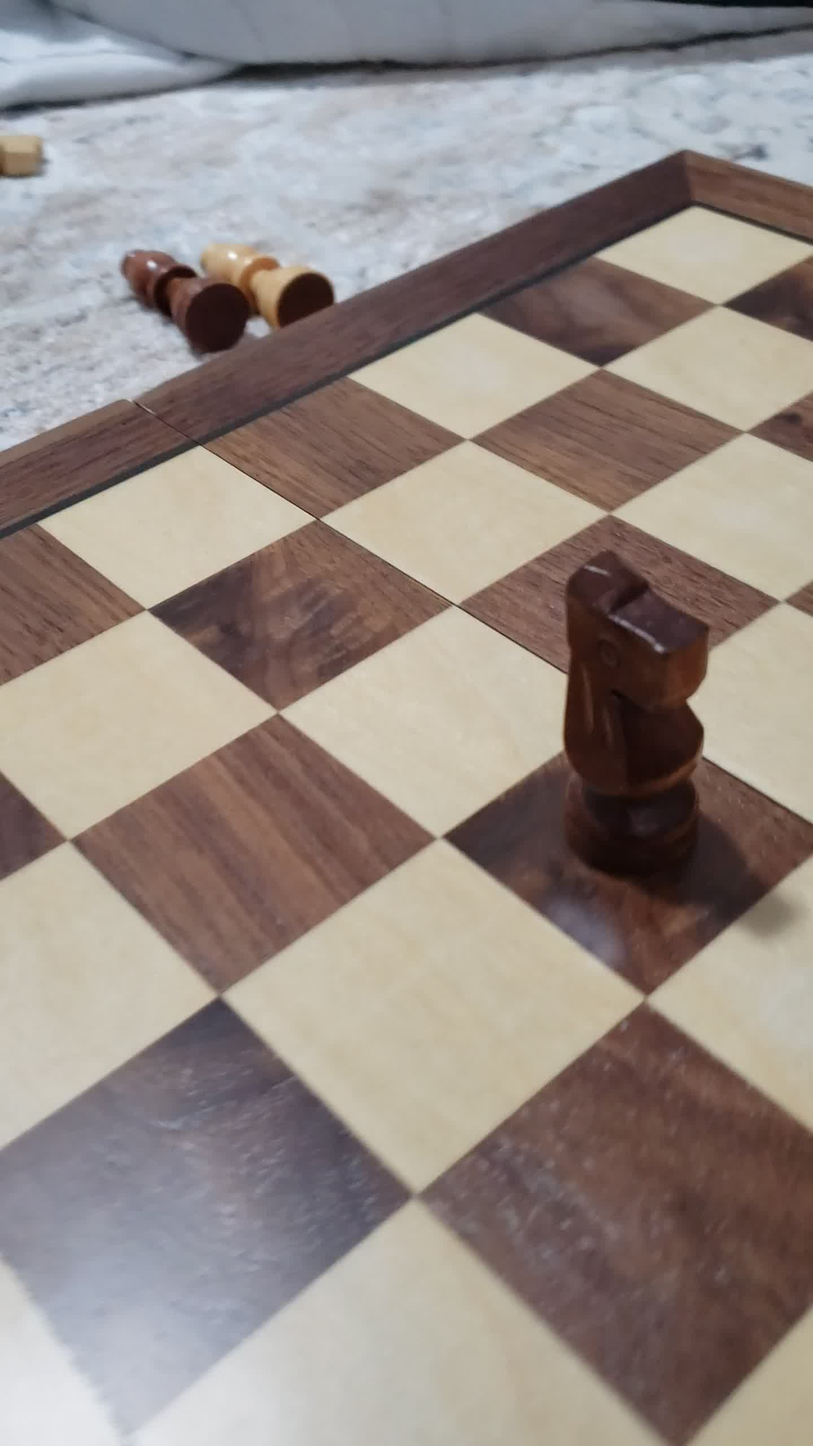black-knight: (508, 517, 747, 928)
